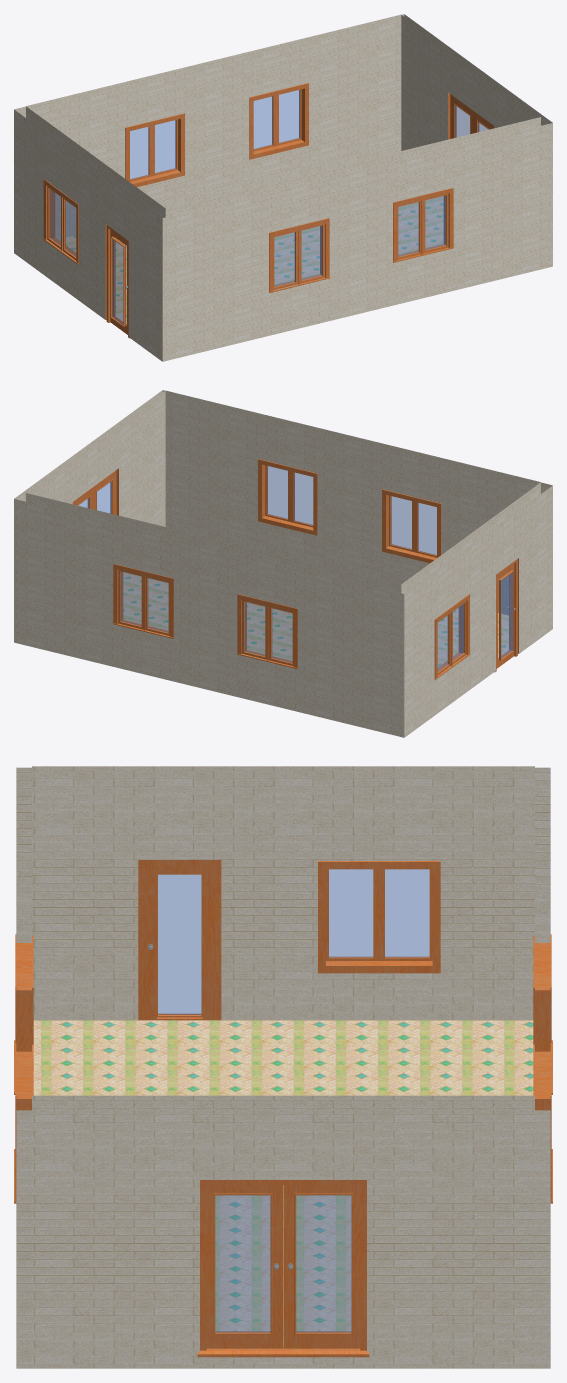
File: telhado33a.gltf
3 views of the same model, one above another, from view 1: azimuth 30°, elevation 25°; view 2: azimuth 150°, elevation 25°; view 3: azimuth 270°, elevation 25° (orthographic). The views are drawn at different scales.
Visible parts, largest first — view 1: root; view 2: root; view 3: root.
Part boxes in pixels (x1,y1,x2,y2): root: (14,14,552,361); root: (14,390,552,737); root: (14,766,552,1368).
Bounding box in the file's own units: 8.86 × 3.23 × 5.85.
7 materials, 4 textured.
